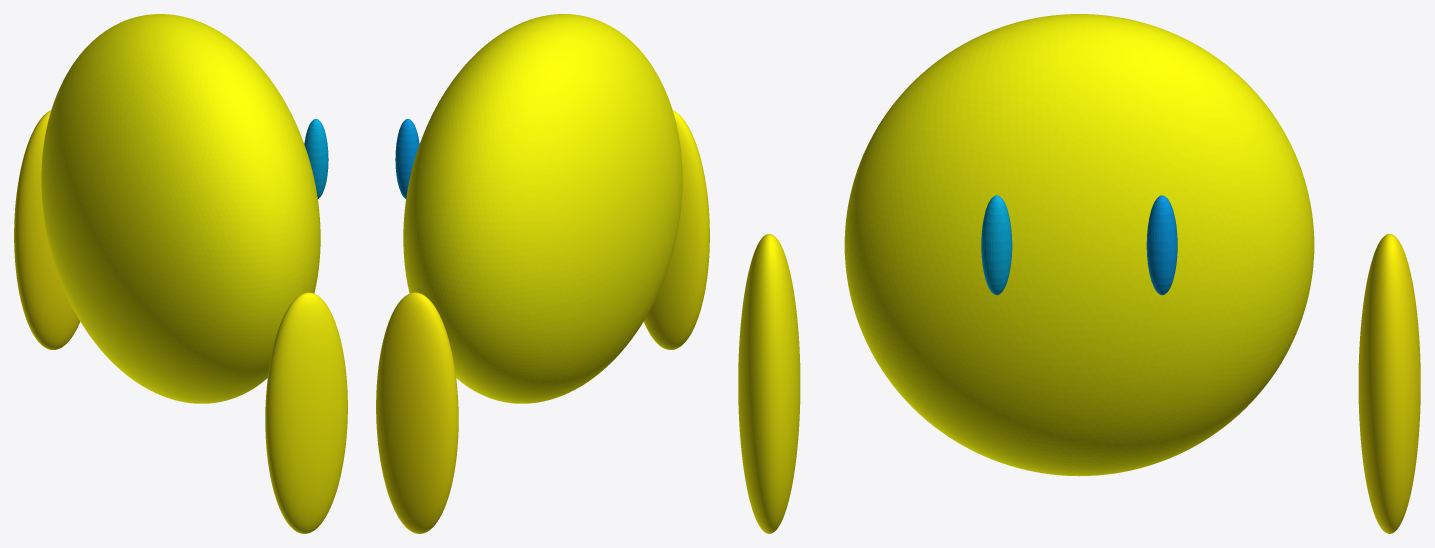
3 views of the same model, side by side, from view 1: azimuth 30°, elevation 25°; view 2: azimuth 150°, elevation 25°; view 3: azimuth 270°, elevation 25° (orthographic). The views are drawn at different scales.
Visible parts, largest first — view 1: Esfera geodésica, Esfera geodésica.001, Esfera geodésica.002, Esfera; view 2: Esfera geodésica, Esfera geodésica.002, Esfera geodésica.001, Esfera.001; view 3: Esfera geodésica, Esfera geodésica.001, Esfera geodésica.002, Esfera, Esfera.001.
Boxes of the visible parts, left/top/right/bottom form: Esfera geodésica: left=41, top=14, right=320, bottom=403; Esfera geodésica.001: left=265, top=292, right=347, bottom=533; Esfera geodésica.002: left=14, top=110, right=80, bottom=349; Esfera: left=304, top=119, right=328, bottom=198; Esfera geodésica: left=403, top=14, right=682, bottom=403; Esfera geodésica.002: left=376, top=292, right=458, bottom=533; Esfera geodésica.001: left=643, top=110, right=709, bottom=349; Esfera.001: left=395, top=119, right=419, bottom=198; Esfera geodésica: left=844, top=14, right=1314, bottom=476; Esfera geodésica.001: left=738, top=234, right=800, bottom=533; Esfera geodésica.002: left=1358, top=234, right=1420, bottom=533; Esfera: left=981, top=195, right=1012, bottom=295; Esfera.001: left=1146, top=195, right=1177, bottom=295.
Bounding box in the file's own units: 148 × 272 × 330.
